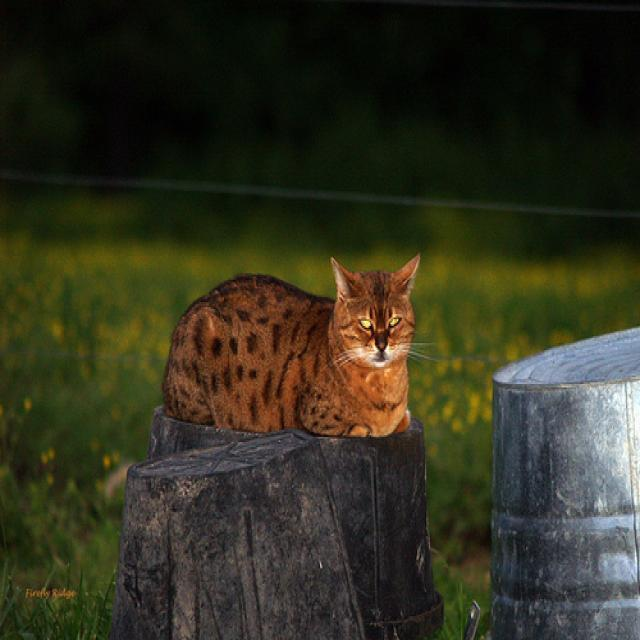Bengal: (326, 257, 424, 369)
